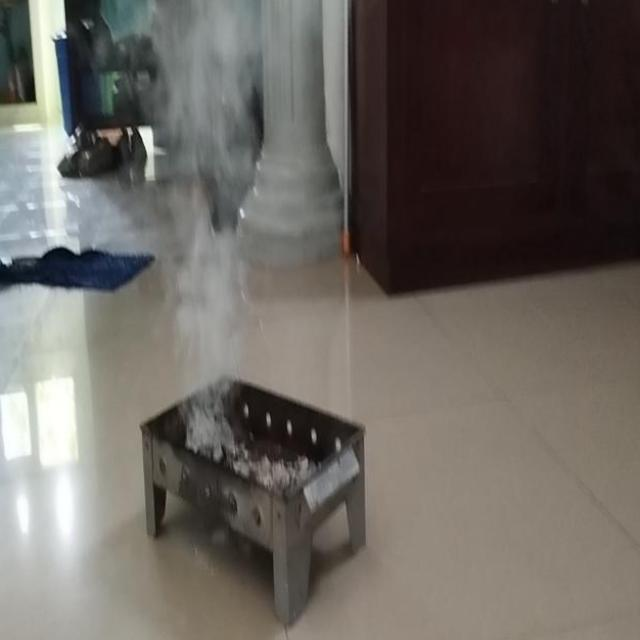fire: (144, 0, 259, 383)
